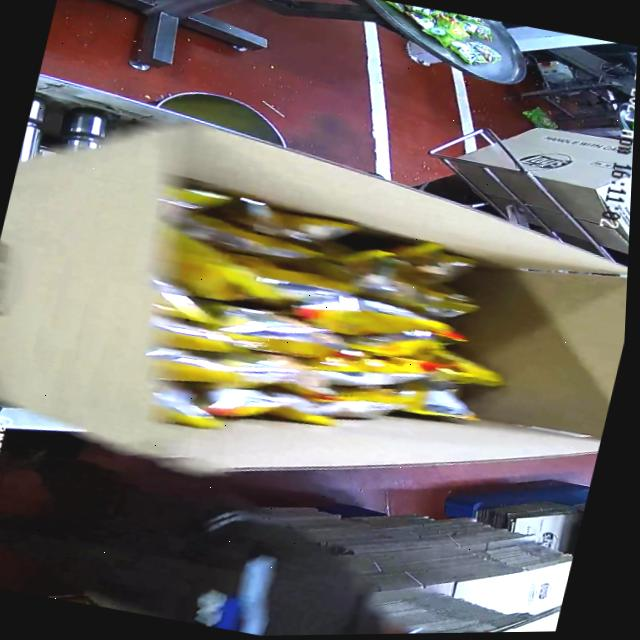SALTED: (140, 195, 502, 473)
